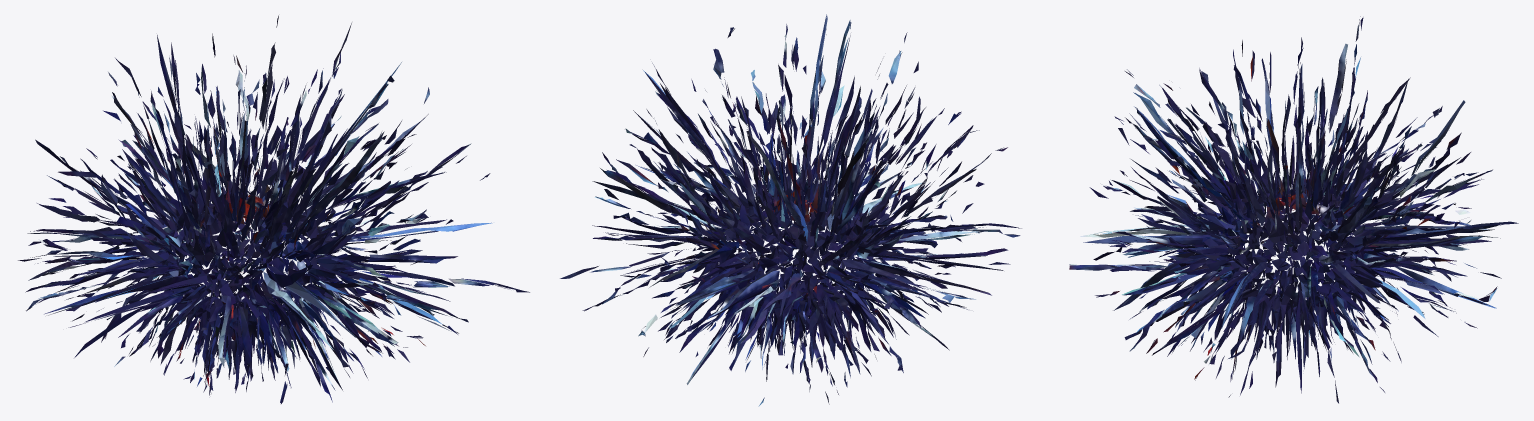
File: diadema-africanum.glb
3 views of the same model, side by side, from view 1: azimuth 30°, elevation 25°; view 2: azimuth 150°, elevation 25°; view 3: azimuth 270°, elevation 25° (orthographic). The views are drawn at different scales.
Visible parts, largest first — view 1: geometry_0; view 2: geometry_0; view 3: geometry_0.
Part boxes in pixels (x1,y1,x2,y2): geometry_0: (18,15,529,403); geometry_0: (560,14,1021,406); geometry_0: (1069,16,1518,403).
Bounding box in the file's own units: 1.99 × 1.4 × 2.01.
Materials: 1 (1 with a texture image).
